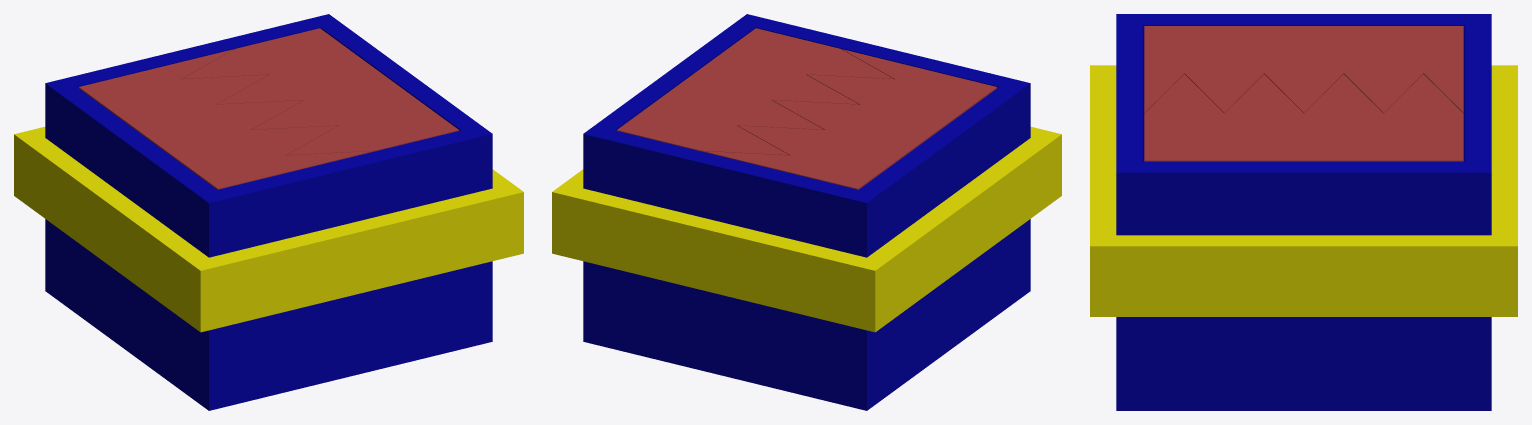
File: BM_Platform_Obstacle02_001.fbx
3 views of the same model, side by side, from view 1: azimuth 30°, elevation 25°; view 2: azimuth 150°, elevation 25°; view 3: azimuth 270°, elevation 25° (orthographic). The views are drawn at different scales.
Parts seen in each view (by area): view 1: BM_Platform_Obstacle02_001, BM_Platform_Obstacle02_Emissive_001, BM_Platform_Obstacle02_DoorL_001, BM_Platform_Obstacle02_DoorR_001; view 2: BM_Platform_Obstacle02_001, BM_Platform_Obstacle02_Emissive_001, BM_Platform_Obstacle02_DoorL_001, BM_Platform_Obstacle02_DoorR_001; view 3: BM_Platform_Obstacle02_001, BM_Platform_Obstacle02_Emissive_001, BM_Platform_Obstacle02_DoorR_001, BM_Platform_Obstacle02_DoorL_001.
Boxes of the visible parts, x1,y1,x2,y2 form: BM_Platform_Obstacle02_001: (45, 14, 492, 410); BM_Platform_Obstacle02_Emissive_001: (14, 127, 523, 332); BM_Platform_Obstacle02_DoorL_001: (78, 49, 373, 189); BM_Platform_Obstacle02_DoorR_001: (182, 28, 459, 155); BM_Platform_Obstacle02_001: (583, 14, 1030, 410); BM_Platform_Obstacle02_Emissive_001: (552, 127, 1061, 332); BM_Platform_Obstacle02_DoorL_001: (702, 49, 997, 189); BM_Platform_Obstacle02_DoorR_001: (616, 28, 893, 155); BM_Platform_Obstacle02_001: (1116, 14, 1491, 410); BM_Platform_Obstacle02_Emissive_001: (1090, 65, 1517, 316); BM_Platform_Obstacle02_DoorR_001: (1144, 74, 1463, 161); BM_Platform_Obstacle02_DoorL_001: (1144, 26, 1463, 113).
Bounding box in the file's own units: 228 × 140 × 228.
